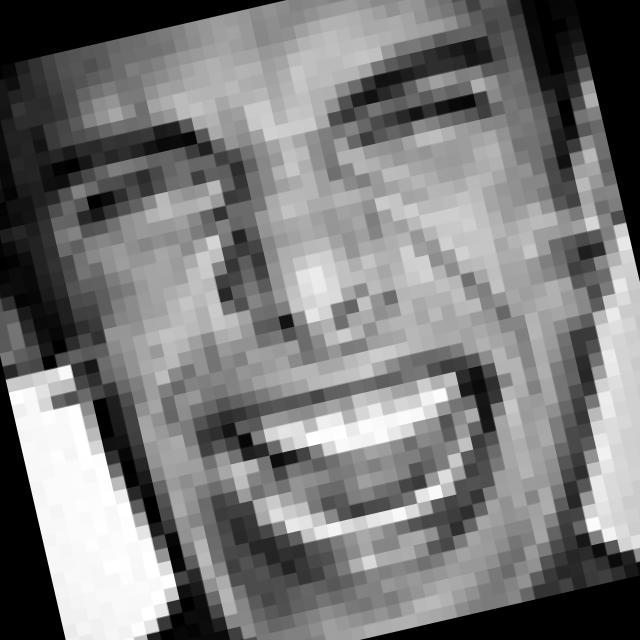angry: (23, 33, 608, 640)
